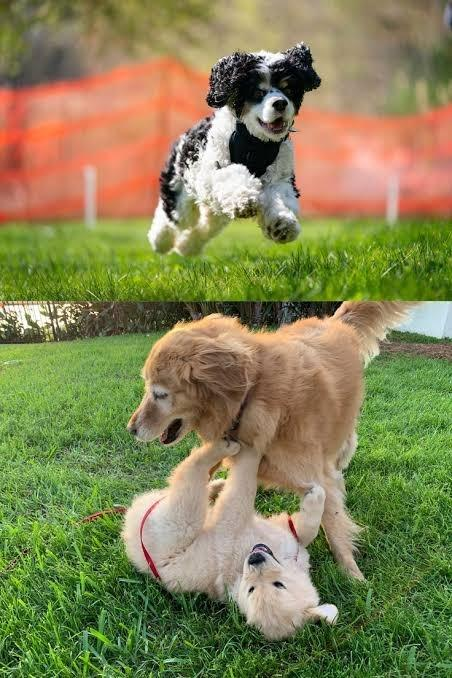adult_dog: (124, 300, 423, 589), (143, 44, 327, 262)
puppy-dog: (120, 440, 339, 640)
